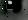person: (8, 3, 14, 14)
